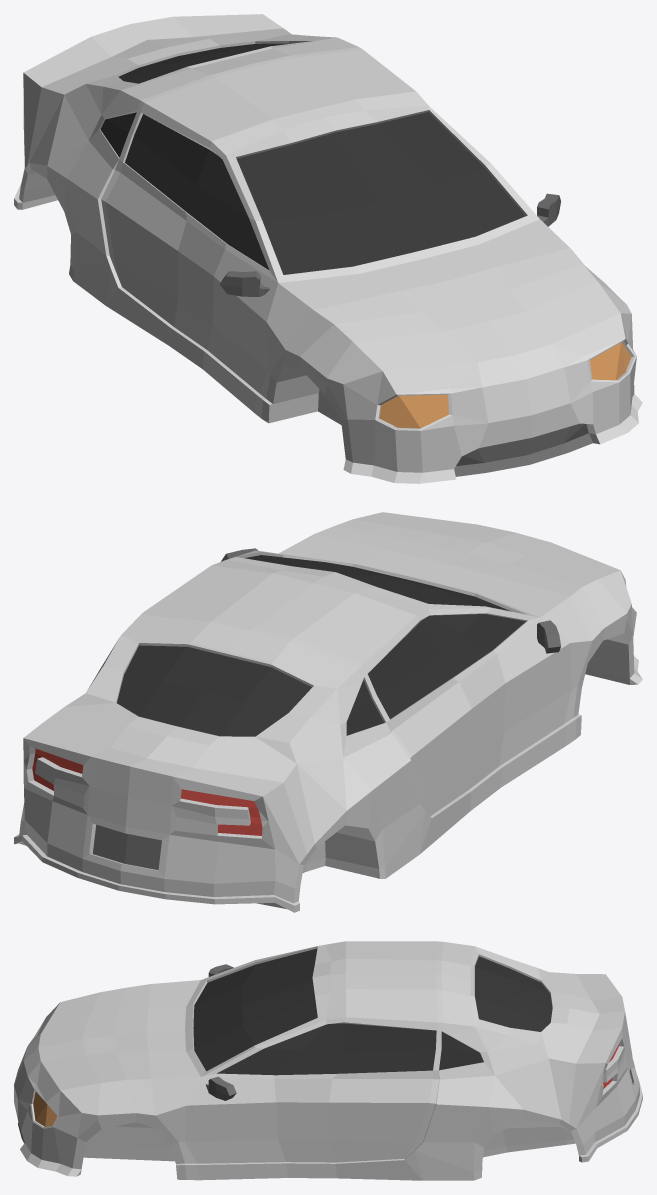
Rendered from sports_car_chassis.glb.
3 renders of one model, top to bottom at view 1: azimuth 30°, elevation 25°; view 2: azimuth 150°, elevation 25°; view 3: azimuth 270°, elevation 25°, orthographic. The views are drawn at different scales.
Parts seen in each view (by area): view 1: SportsCar2; view 2: SportsCar2; view 3: SportsCar2.
Boxes of the visible parts, x1,y1,x2,y2 form: SportsCar2: [14, 14, 642, 483]; SportsCar2: [14, 512, 642, 912]; SportsCar2: [14, 941, 642, 1180].
Size of the model in its own units: 1.87 by 1.04 by 3.93.
